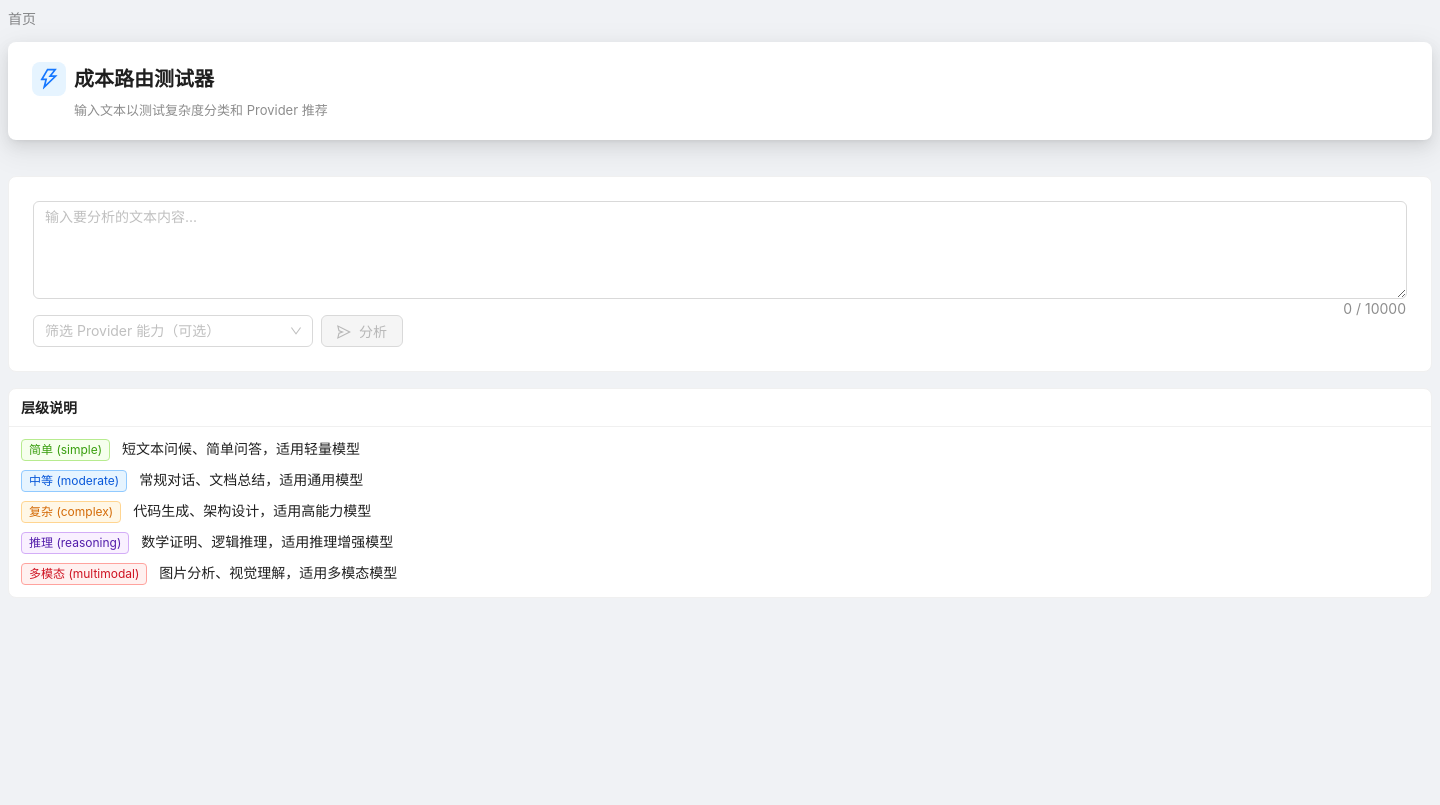
Test: CostRouterPage › 显示分类结果
Step 1. Type "测试文本" into the text box with placeholder "输入要分析的文本内容..." → (720, 250), box x1=34 y1=202 x2=1406 y2=298
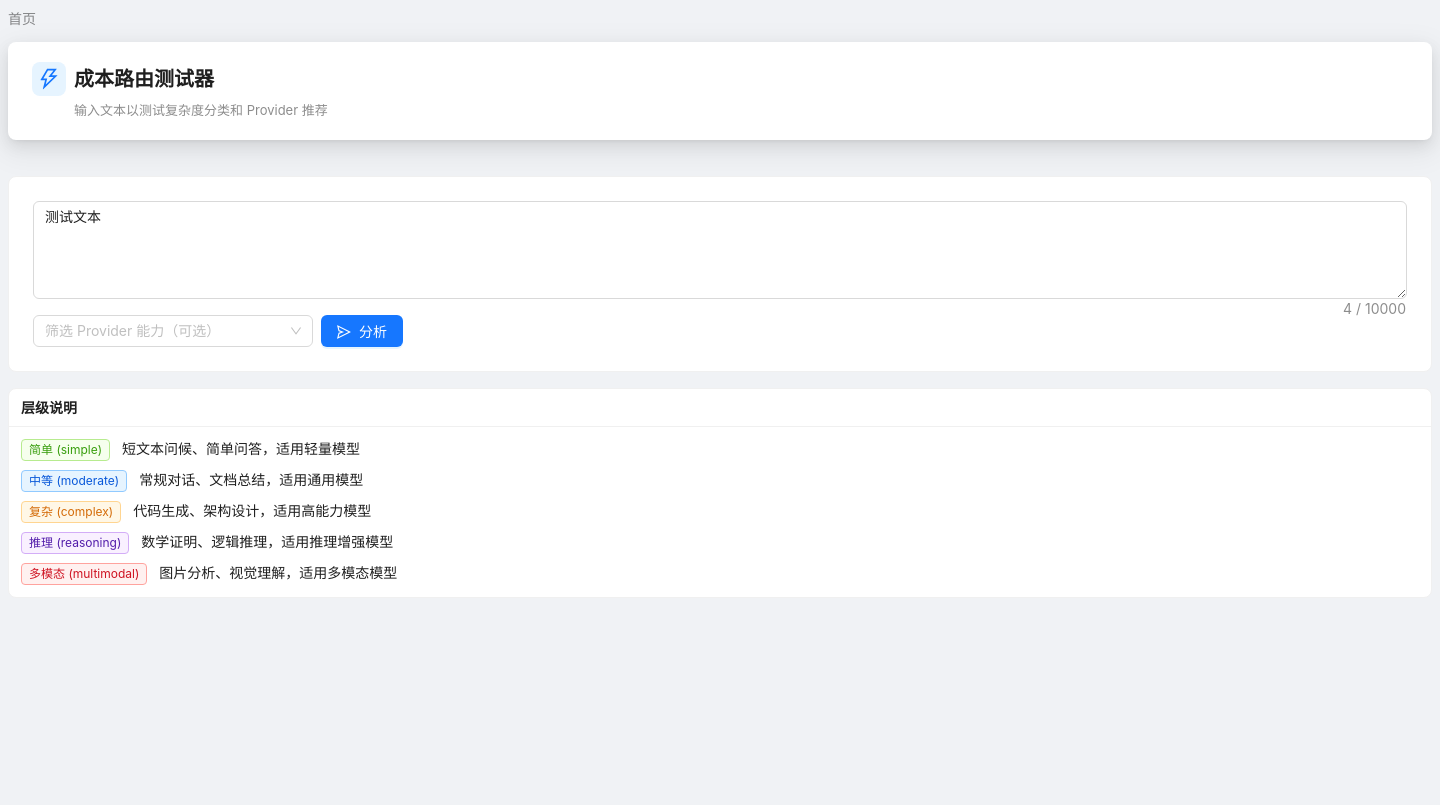
Step 2. Click the button "分析" → (362, 331), box x1=321 y1=315 x2=403 y2=347
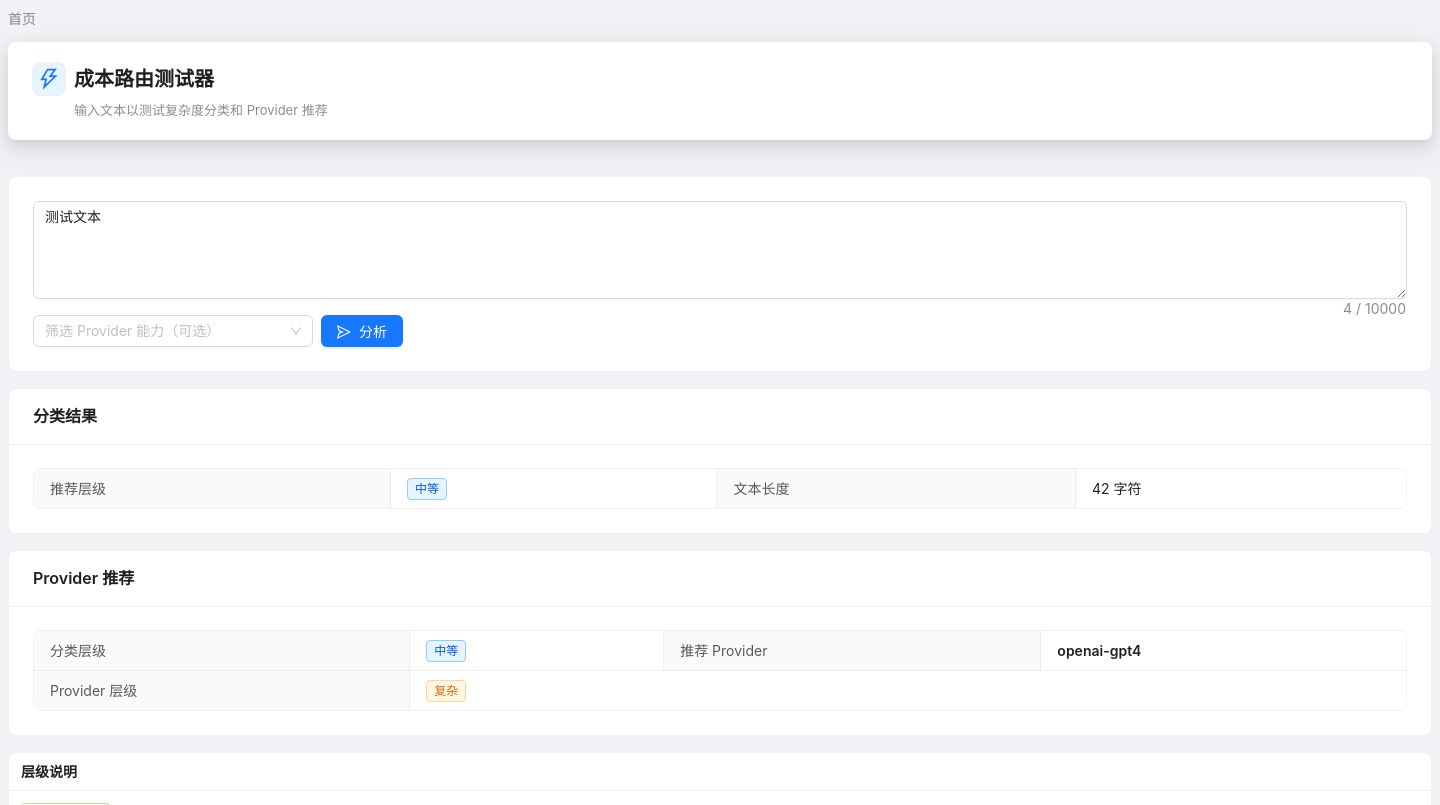
Expected: the text "中等" is shown, x1=407 y1=478 x2=447 y2=500
Expected: the text "分类结果" is shown, x1=33 y1=406 x2=97 y2=426
Expected: the text "42" is shown, x1=1092 y1=480 x2=1110 y2=497
